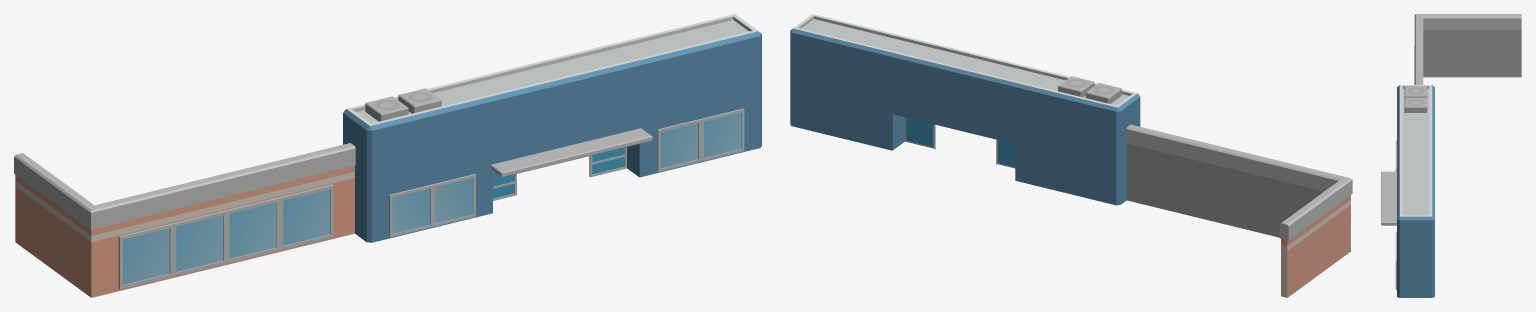
Rendered from Lvl_3.fbx.
3 views of the same model, side by side, from view 1: azimuth 30°, elevation 25°; view 2: azimuth 150°, elevation 25°; view 3: azimuth 270°, elevation 25° (orthographic). The views are drawn at different scales.
Parts seen in each view (by area): view 1: Entry_Wall_M, Side_Wall_M, Window_M_1, Mid_Wall_M, Window_M_3, Window_M_2, Roof_M, Door_M_2, Condenser_M_2, Condenser_M_1, Door_M_1; view 2: Entry_Wall_M, Side_Wall_M, Mid_Wall_M, Door_M_2, Condenser_M_2, Condenser_M_1, Door_M_1; view 3: Entry_Wall_M, Side_Wall_M, Roof_M, Condenser_M_1, Condenser_M_2, Mid_Wall_M, Window_M_3.
Part boxes in pixels (x1,y1,x2,y2): Entry_Wall_M: [343, 14, 761, 242]; Side_Wall_M: [14, 153, 223, 297]; Window_M_1: [118, 184, 333, 289]; Mid_Wall_M: [219, 143, 355, 265]; Window_M_3: [657, 108, 744, 171]; Window_M_2: [389, 174, 475, 237]; Roof_M: [490, 128, 652, 177]; Door_M_2: [589, 147, 626, 177]; Condenser_M_2: [365, 96, 408, 121]; Condenser_M_1: [398, 88, 441, 113]; Door_M_1: [493, 171, 516, 200]; Entry_Wall_M: [790, 14, 1140, 205]; Side_Wall_M: [1236, 151, 1352, 297]; Mid_Wall_M: [1126, 124, 1240, 227]; Door_M_2: [905, 117, 935, 149]; Condenser_M_2: [1085, 83, 1121, 103]; Condenser_M_1: [1058, 76, 1094, 97]; Door_M_1: [996, 139, 1015, 168]; Entry_Wall_M: [1397, 85, 1434, 297]; Side_Wall_M: [1414, 14, 1521, 77]; Roof_M: [1381, 171, 1396, 225]; Condenser_M_1: [1404, 97, 1427, 112]; Condenser_M_2: [1404, 86, 1427, 97]; Mid_Wall_M: [1414, 58, 1423, 84]; Window_M_3: [1395, 231, 1396, 289].
Size of the model in its own units: 40.08 by 7 by 10.61.
